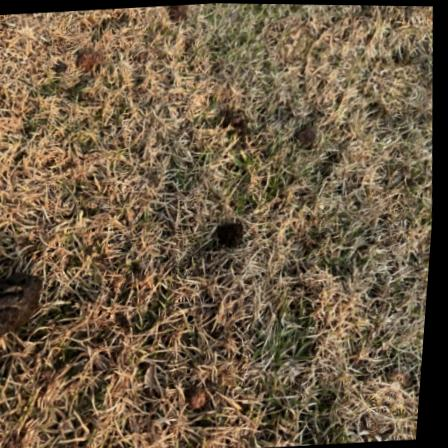dog-poop: (0, 267, 59, 354)
